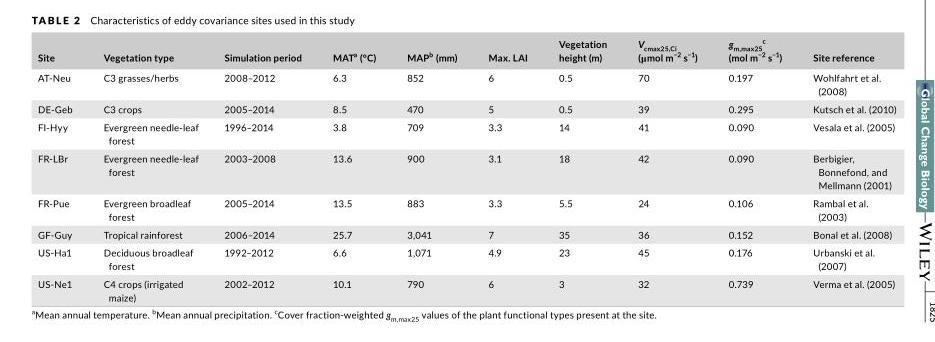table: (38, 37, 896, 302)
table column: (88, 37, 211, 302), (211, 37, 317, 302), (797, 37, 896, 302), (622, 37, 713, 302), (713, 37, 797, 302), (391, 37, 473, 302), (543, 37, 622, 302), (317, 37, 391, 302), (473, 37, 543, 302), (38, 37, 88, 302)
table column header: (38, 37, 896, 68)
table row: (38, 148, 896, 193), (38, 242, 896, 274), (38, 37, 896, 68), (38, 68, 896, 99), (38, 117, 896, 148), (38, 193, 896, 224), (38, 274, 896, 302), (38, 99, 896, 117), (38, 224, 896, 242)
